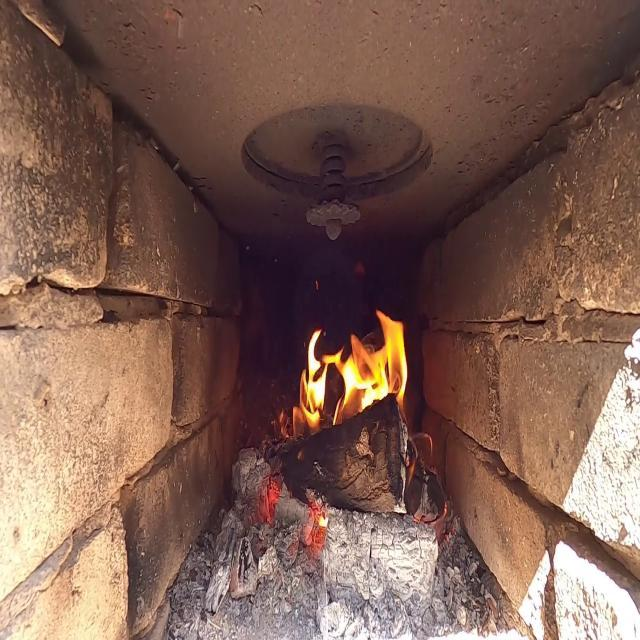Fire: (295, 302, 409, 436)
